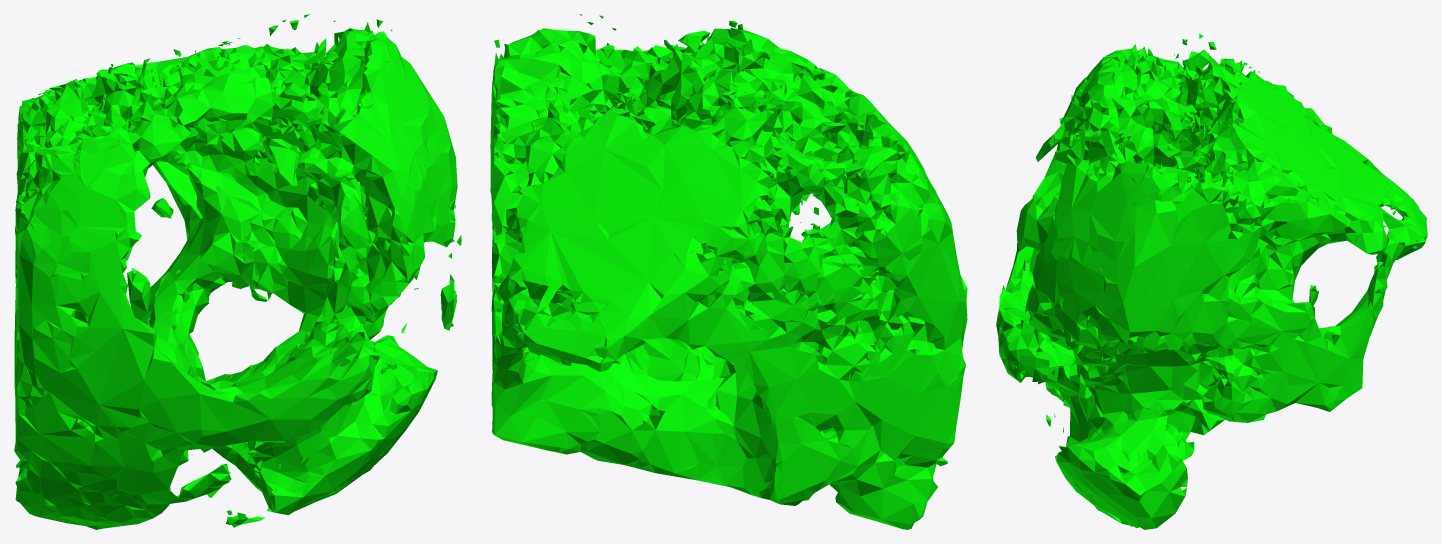
File: B939XXXX-1_base_17.obj
3 renders of one model, left to right at view 1: azimuth 30°, elevation 25°; view 2: azimuth 150°, elevation 25°; view 3: azimuth 270°, elevation 25°, orthographic. The views are drawn at different scales.
Visible parts, largest first — view 1: 17_base; view 2: 17_base; view 3: 17_base.
Part boxes in pixels (x1,y1,x2,y2): 17_base: [14, 14, 461, 529]; 17_base: [490, 14, 967, 529]; 17_base: [996, 19, 1427, 529].
Size of the model in its own units: 216 by 213 by 202.
